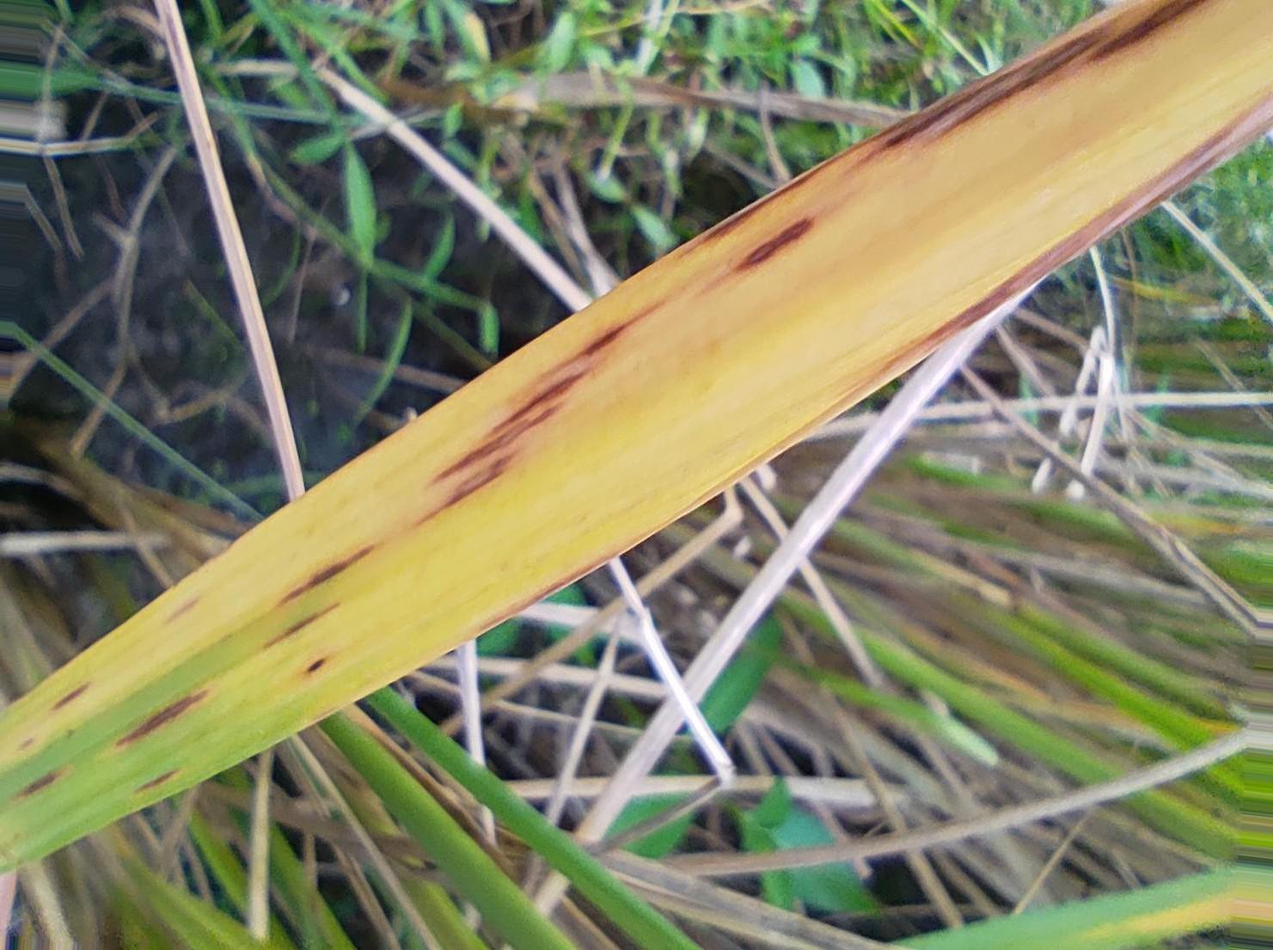LEAF: (0, 0, 1272, 870)
NBS: (430, 402, 562, 485), (482, 368, 591, 440), (553, 303, 660, 373), (1086, 0, 1198, 62), (111, 689, 210, 749), (276, 544, 374, 604), (415, 468, 503, 524), (738, 219, 814, 271), (261, 601, 340, 649), (6, 763, 71, 806), (133, 767, 185, 796), (47, 682, 94, 710), (166, 597, 198, 623)
